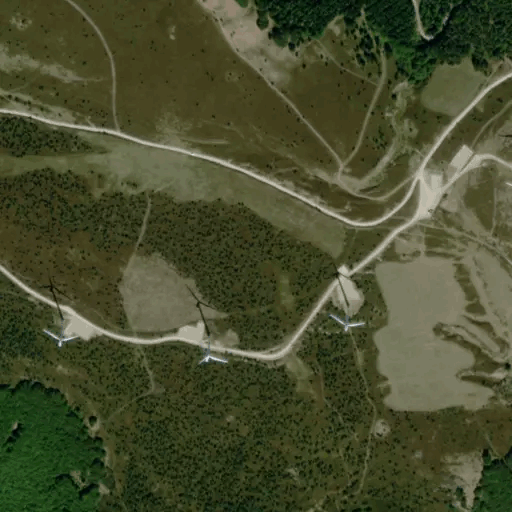wt: (179, 278, 234, 370), (33, 267, 84, 350), (318, 258, 367, 335)
